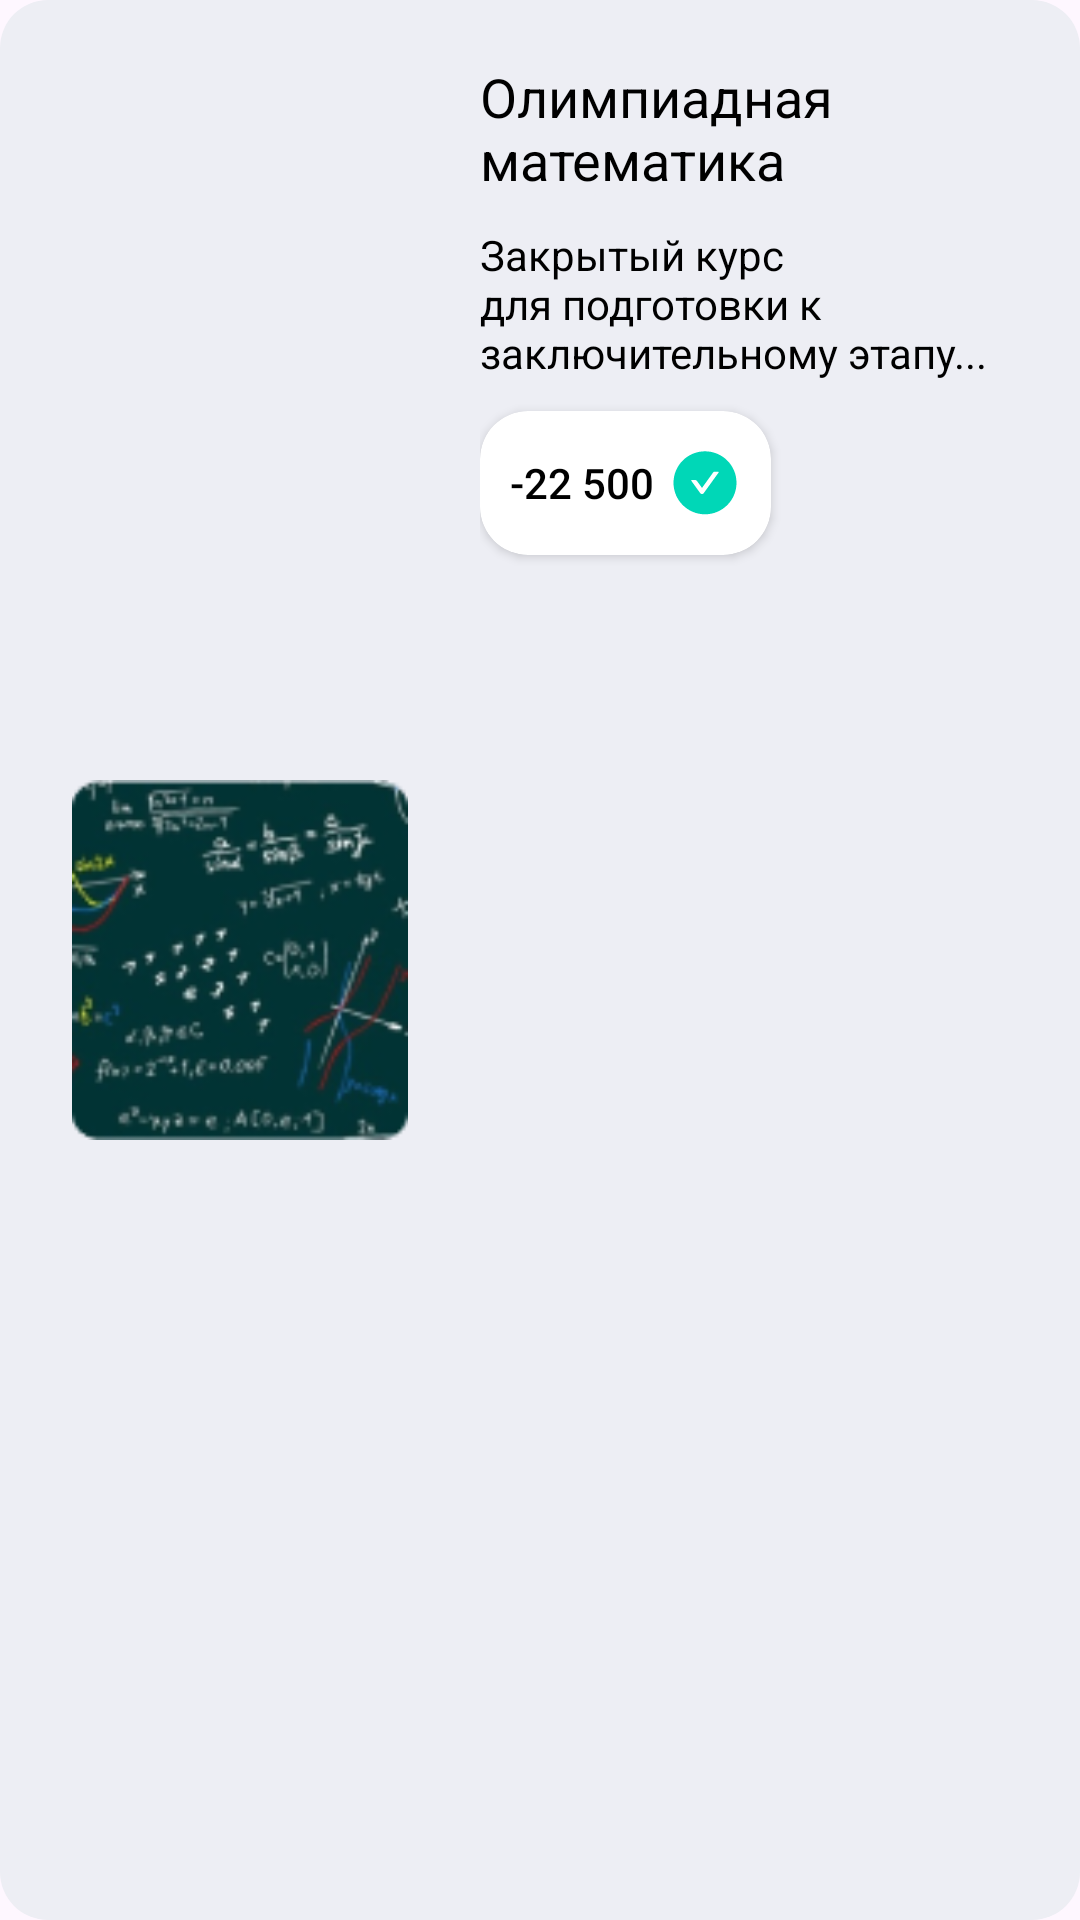

Icons on this 1080w x 1920h Android screen, each with its box as (x1, y1, x2, y2):
shop course item: (72, 780, 408, 1140)
